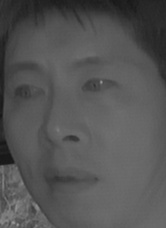eye: (80, 74, 121, 99), (11, 82, 47, 105)
mouth: (39, 163, 99, 199)
